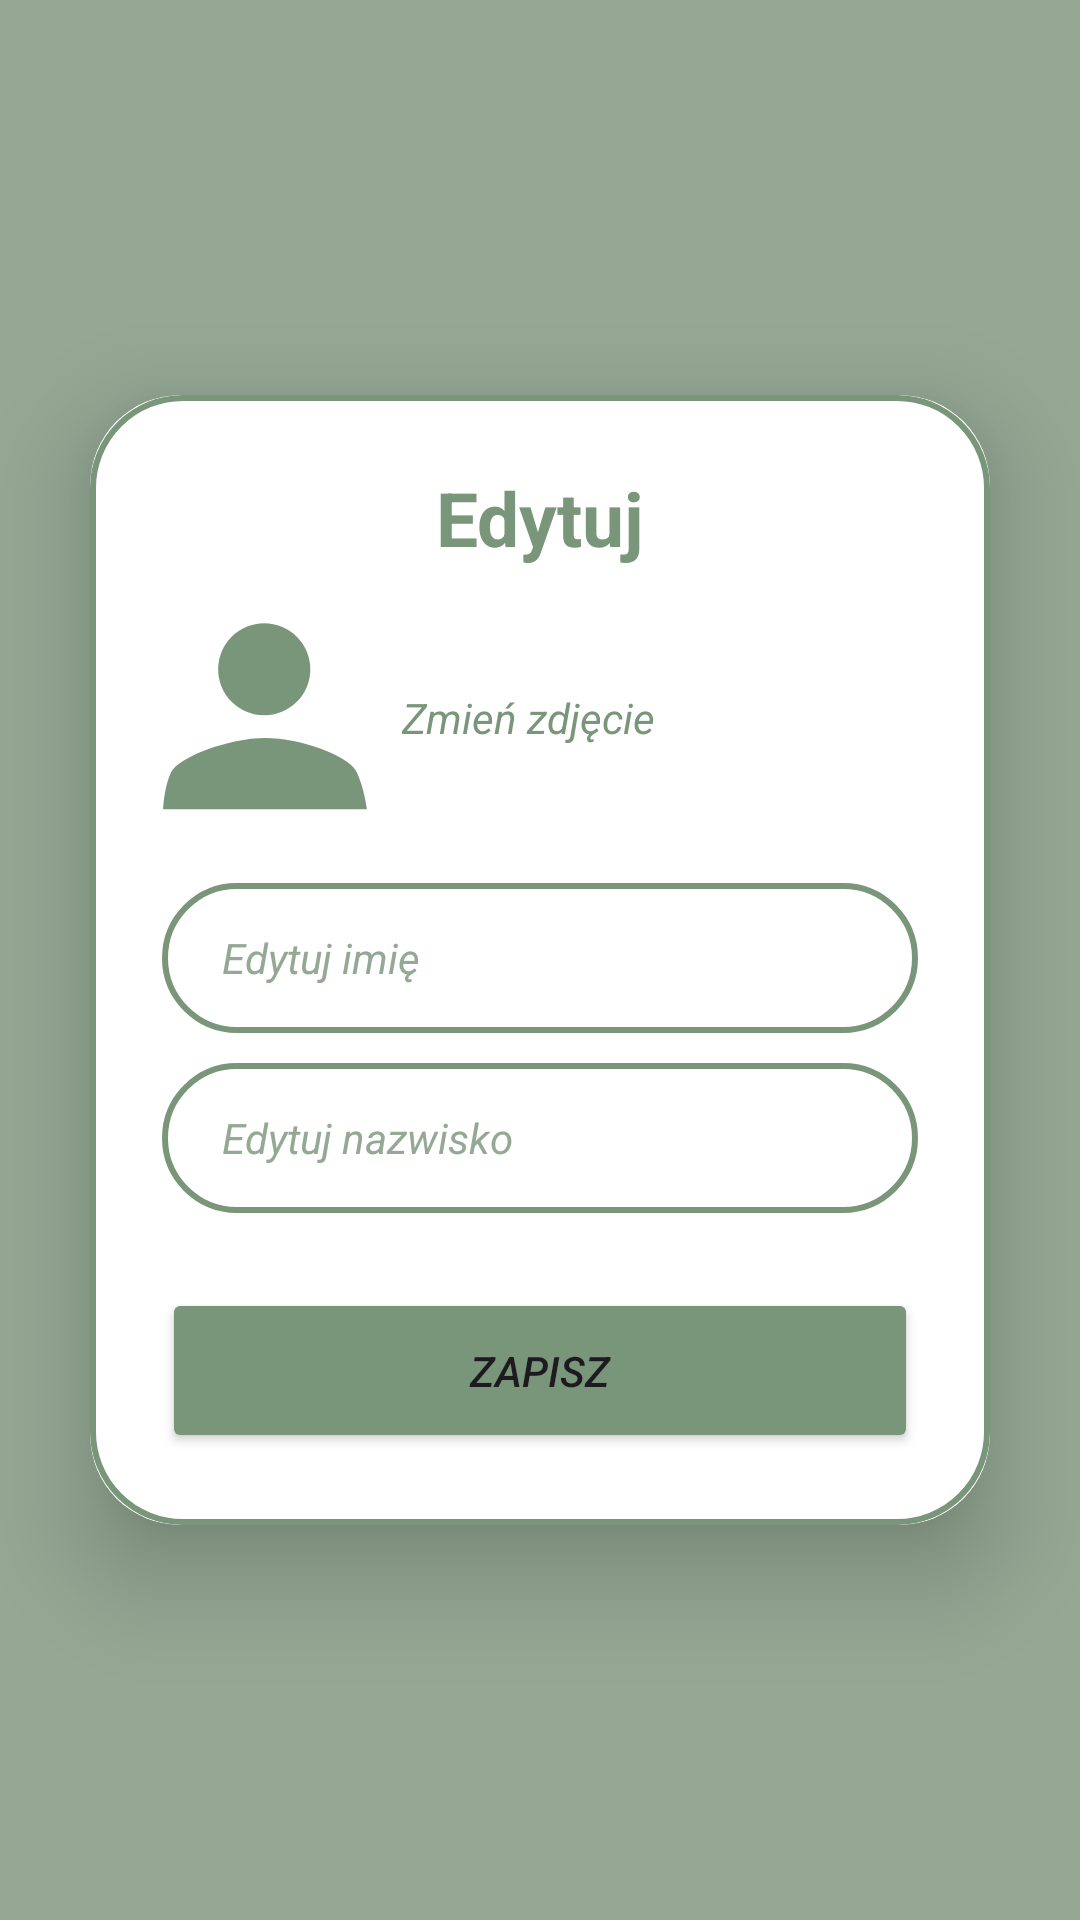

Screen size 1080×1920. Icon name, then its box in pixels as (x1, y1, x2, y2):
osoba: (163, 623, 367, 810)
